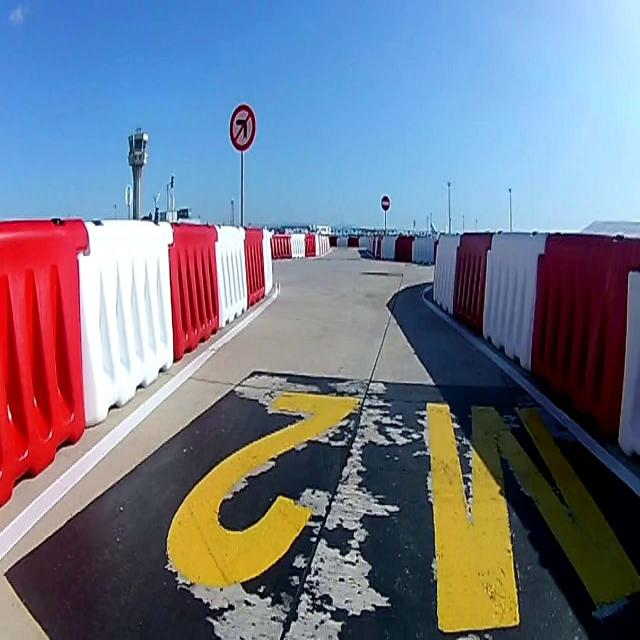soladonulmez: (229, 105, 256, 150)
